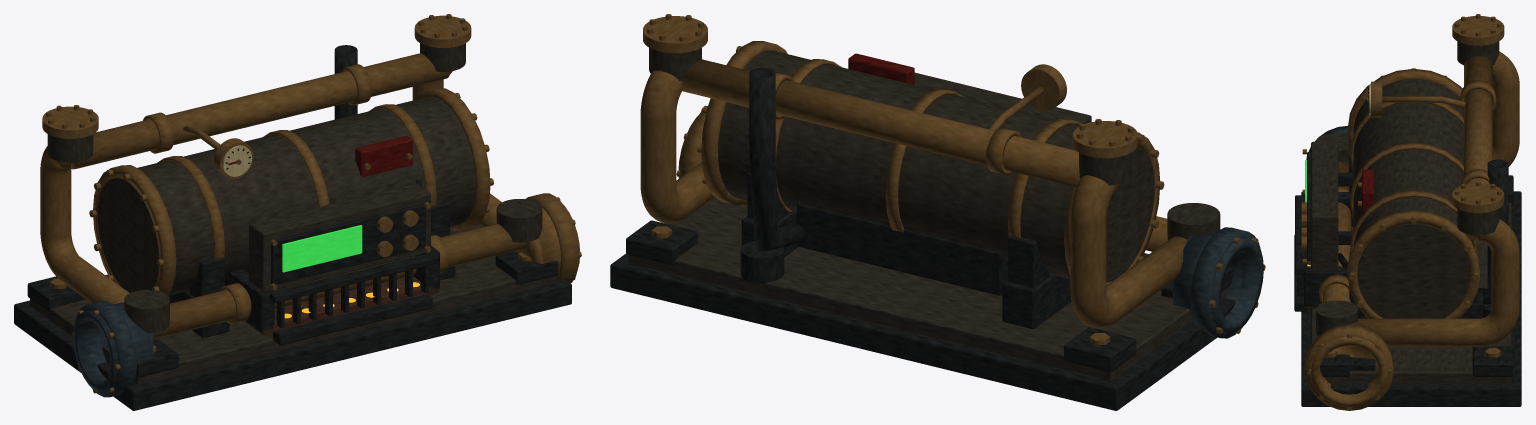
Rendered from sterling-v03.glb.
The picture shows the model from 3 angles, left to right: view 1: azimuth 30°, elevation 25°; view 2: azimuth 150°, elevation 25°; view 3: azimuth 270°, elevation 25°; orthographic projection. The views are drawn at different scales.
Parts seen in each view (by area): view 1: STERLING | horizontal pressure drum, STERLING | continuous bolted deck base, STERLING | continuous circulation header, STERLING | layered armor deck, STERLING | armored cogitator console, STERLING | end jacket return, STERLING | dished vessel end cover, STERLING | continuous circulation header.001, STERLING | recessed console face, STERLING | WATER full bore outer socket, STERLING | end pressure flange, STERLING | ash drawer (+31 smaller); view 2: STERLING | horizontal pressure drum, STERLING | layered armor deck, STERLING | continuous bolted deck base, STERLING | continuous circulation header, STERLING | firebox back wall, STERLING | end jacket return, STERLING | end jacket return.001, STERLING | rear combustion exhaust, STERLING | dished vessel end cover, STERLING | WATER full bore outer socket, STERLING | WATER seating collar, STERLING | vessel saddle foot (+19 smaller); view 3: STERLING | horizontal pressure drum, STERLING | dished vessel end cover.001, STERLING | end jacket return.001, STERLING | continuous bolted deck base, STERLING | layered armor deck, STERLING | armored cogitator console, STERLING | continuous circulation header, STERLING | end pressure flange.001, STERLING | end jacket return, STERLING | STEAM full bore outer socket, STERLING | STEAM seating collar, STERLING | end pressure flange (+27 smaller).
Part boxes in pixels (<box>): STERLING | horizontal pressure drum: <box>137,96,475,295</box>; STERLING | continuous bolted deck base: <box>14,278,571,410</box>; STERLING | continuous circulation header: <box>71,53,450,169</box>; STERLING | layered armor deck: <box>30,224,556,384</box>; STERLING | armored cogitator console: <box>249,183,430,291</box>; STERLING | end jacket return: <box>40,146,129,304</box>; STERLING | dished vessel end cover: <box>97,177,159,292</box>; STERLING | continuous circulation header.001: <box>154,223,526,338</box>; STERLING | recessed console face: <box>271,203,425,284</box>; STERLING | WATER full bore outer socket: <box>73,302,151,392</box>; STERLING | end pressure flange: <box>93,165,176,295</box>; STERLING | ash drawer: <box>273,294,432,345</box>; STERLING | horizontal pressure drum: <box>718,50,1079,279</box>; STERLING | layered armor deck: <box>628,197,1228,380</box>; STERLING | continuous bolted deck base: <box>610,253,1235,410</box>; STERLING | continuous circulation header: <box>681,59,1080,187</box>; STERLING | firebox back wall: <box>797,203,1004,295</box>; STERLING | end jacket return: <box>1070,175,1186,328</box>; STERLING | end jacket return.001: <box>640,70,714,223</box>; STERLING | rear combustion exhaust: <box>749,68,805,251</box>; STERLING | dished vessel end cover: <box>1106,145,1154,282</box>; STERLING | WATER full bore outer socket: <box>1172,232,1263,332</box>; STERLING | WATER seating collar: <box>1190,227,1260,338</box>; STERLING | vessel saddle foot: <box>1002,274,1071,329</box>; STERLING | horizontal pressure drum: <box>1353,79,1473,274</box>; STERLING | dished vessel end cover.001: <box>1357,223,1470,318</box>; STERLING | end jacket return.001: <box>1341,219,1519,346</box>; STERLING | continuous bolted deck base: <box>1301,191,1521,406</box>; STERLING | layered armor deck: <box>1311,202,1511,383</box>; STERLING | armored cogitator console: <box>1311,141,1338,269</box>; STERLING | continuous circulation header: <box>1464,56,1492,240</box>; STERLING | end pressure flange.001: <box>1347,210,1479,318</box>; STERLING | end jacket return: <box>1492,51,1519,166</box>; STERLING | STEAM full bore outer socket: <box>1311,322,1387,407</box>; STERLING | STEAM seating collar: <box>1305,324,1393,410</box>; STERLING | end pressure flange: <box>1347,68,1462,150</box>.
Bounding box in the file's own units: 4 × 1.79 × 1.83.
Materials: 9 (9 with a texture image).
